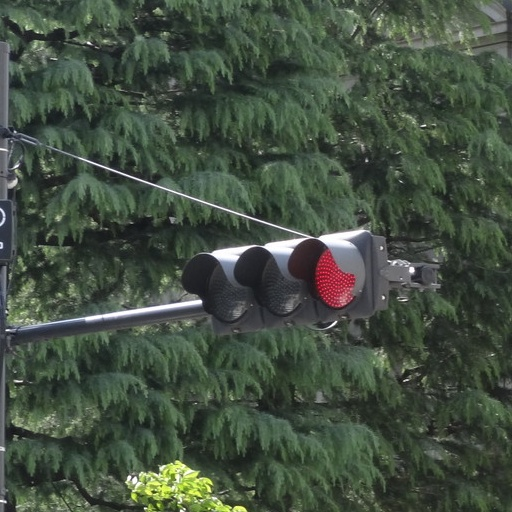Traffic_Signal_Red: (189, 223, 383, 310)
